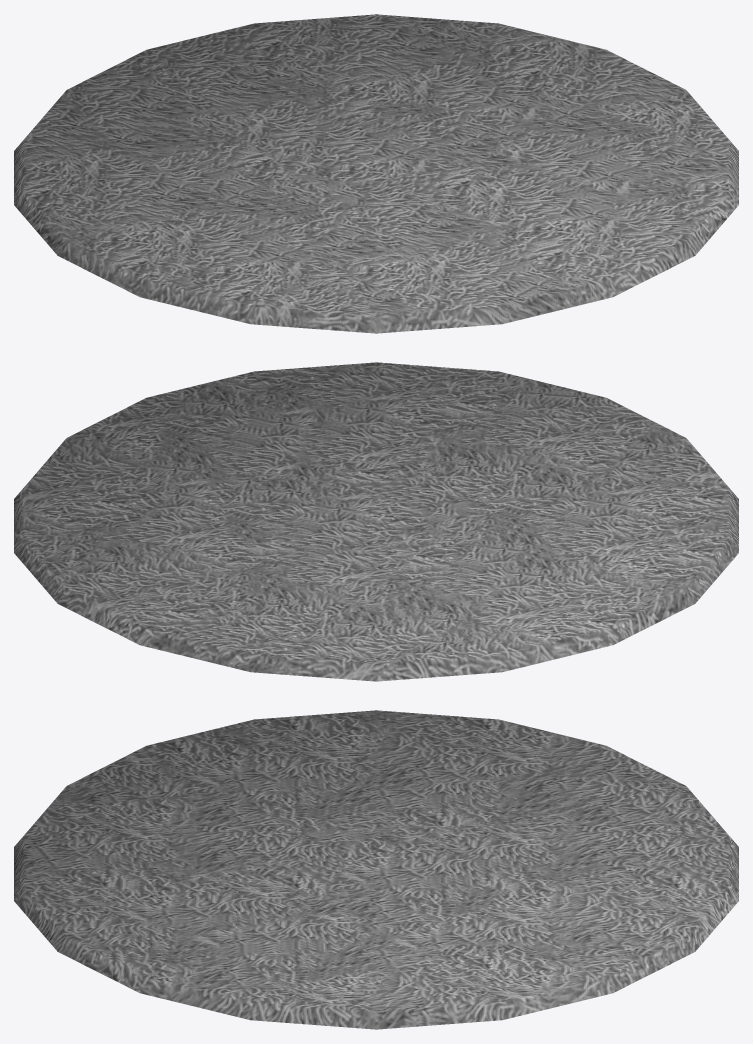
File: BathroomCarpet.FBX
3 renders of one model, top to bottom at view 1: azimuth 30°, elevation 25°; view 2: azimuth 150°, elevation 25°; view 3: azimuth 270°, elevation 25°, orthographic.
Parts seen in each view (by area): view 1: BathroomCarpet; view 2: BathroomCarpet; view 3: BathroomCarpet.
Part boxes in pixels (box(x1,y1,x2,y2)): BathroomCarpet: box(14, 14, 738, 333); BathroomCarpet: box(14, 362, 738, 681); BathroomCarpet: box(14, 710, 738, 1029).
Size of the model in its own units: 6.82 by 0.1282 by 6.72.
